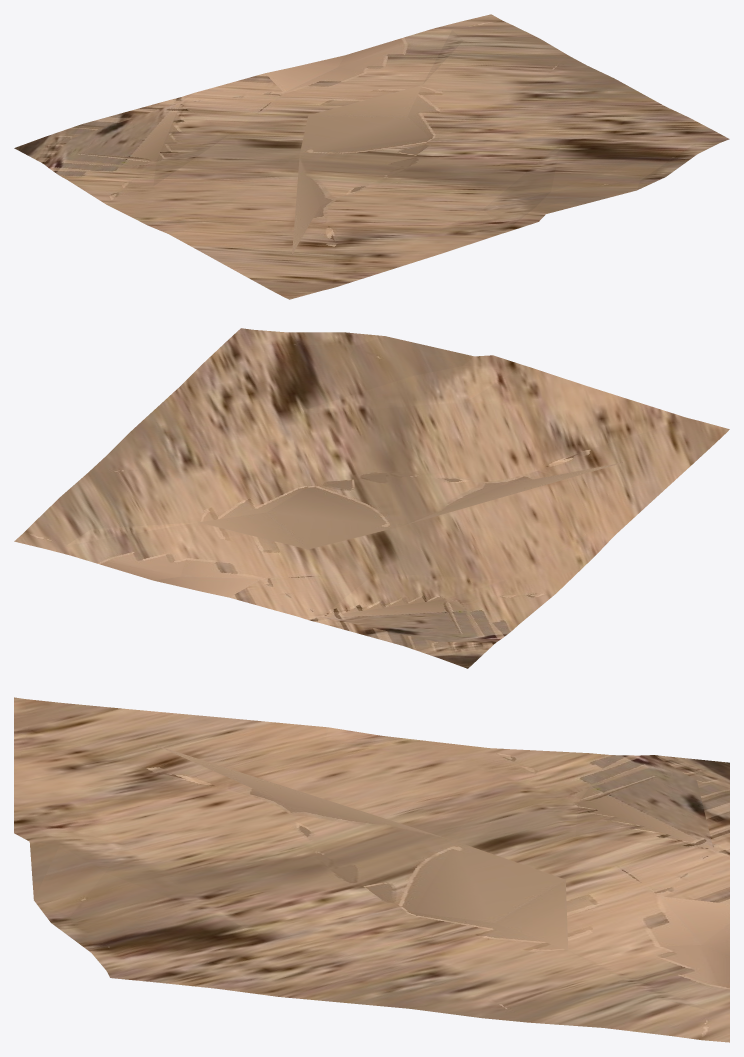
The picture shows the model from 3 angles, top to bottom: view 1: azimuth 30°, elevation 25°; view 2: azimuth 150°, elevation 25°; view 3: azimuth 270°, elevation 25°; orthographic projection. The views are drawn at different scales.
Bounding box in the file's own units: 2.09 × 0.2811 × 2.09.
Materials: 3 (3 with a texture image).
